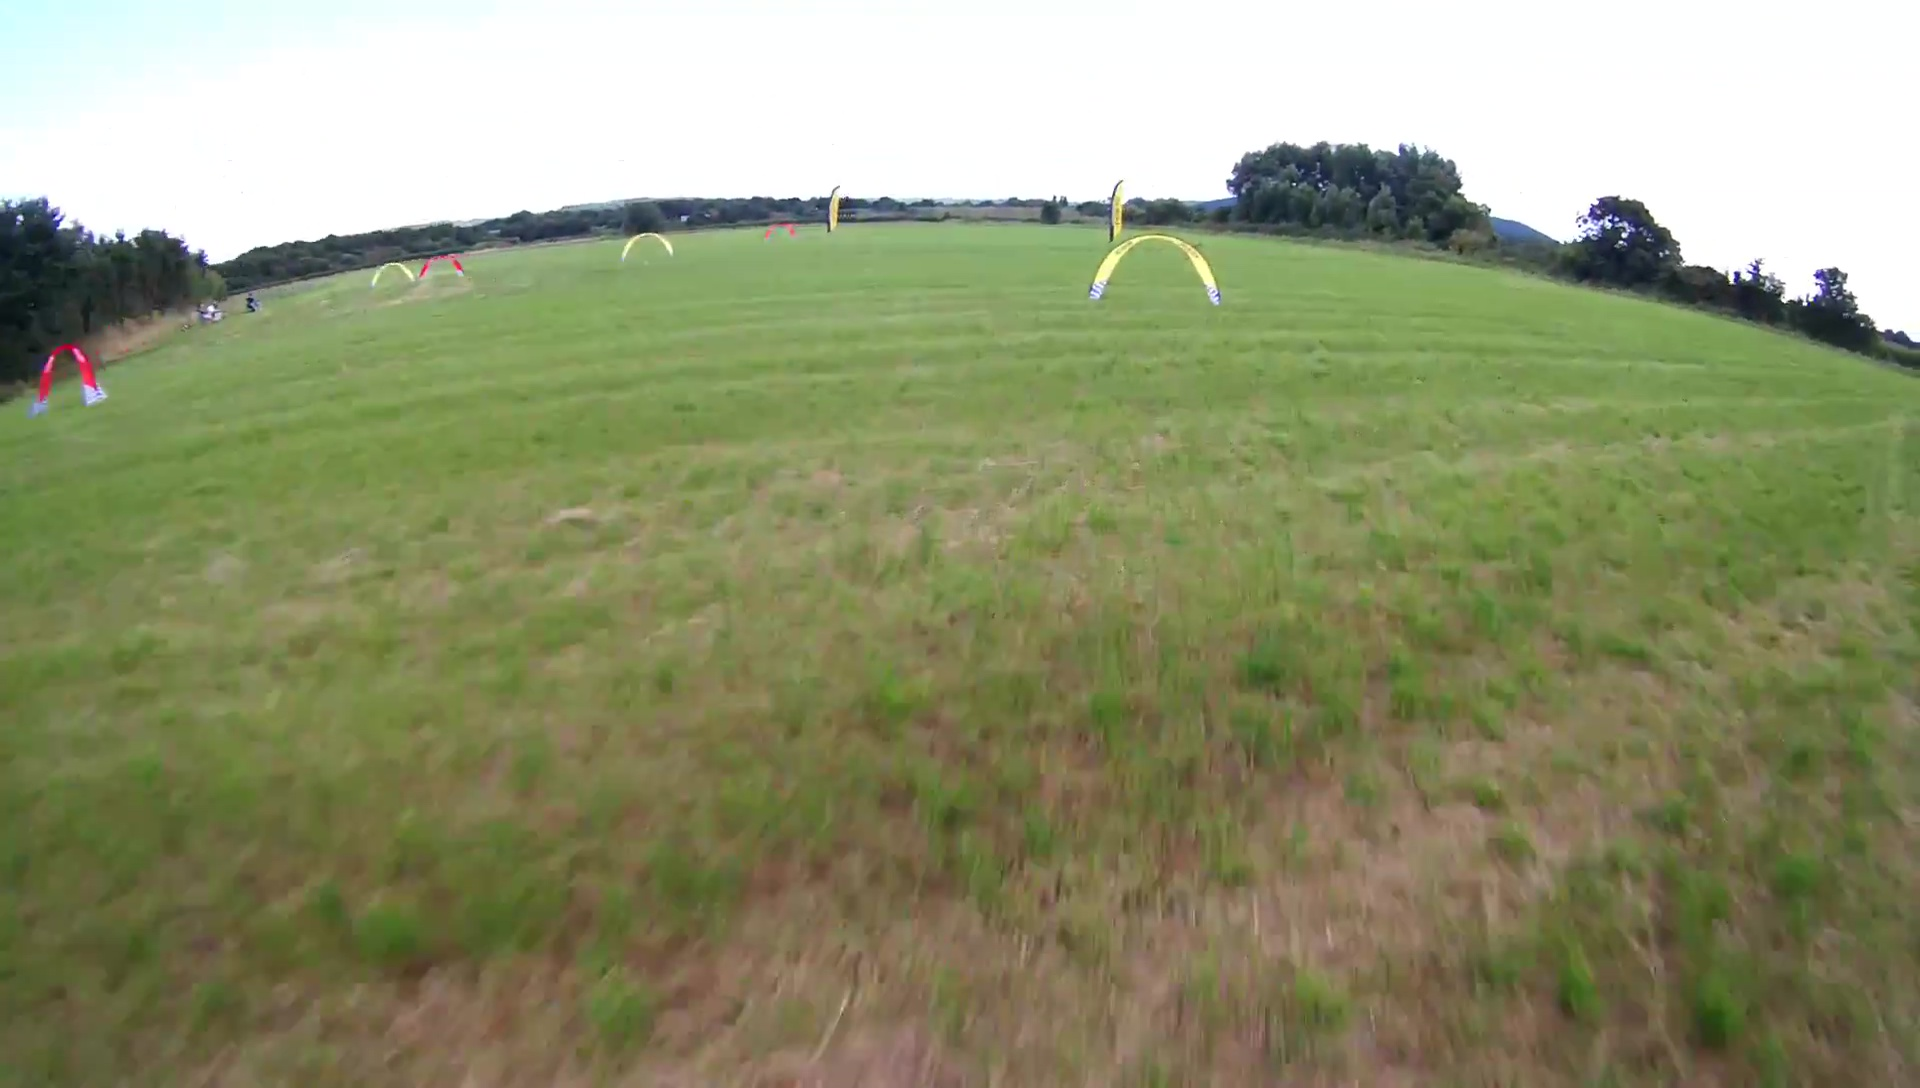gate: (1085, 232, 1222, 309), (33, 334, 109, 414), (616, 232, 678, 266), (418, 249, 469, 280)
